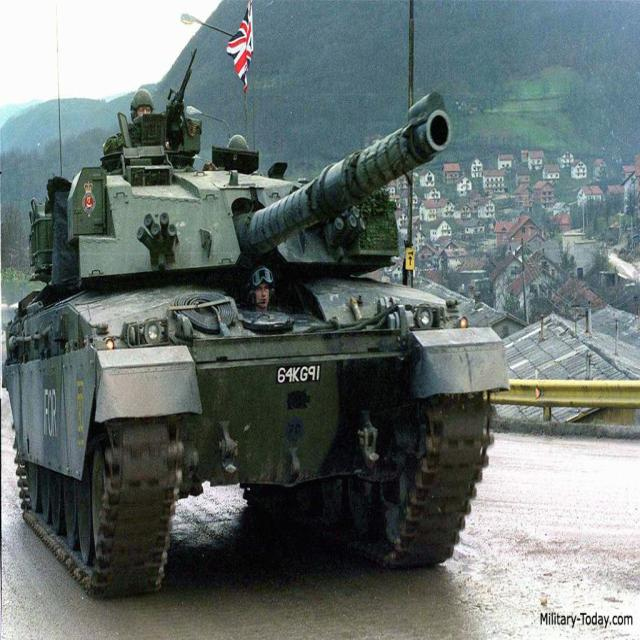Tank: (17, 77, 494, 572)
